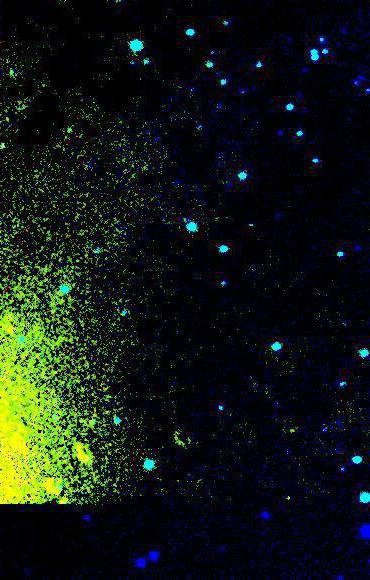star: (275, 477, 305, 507)
